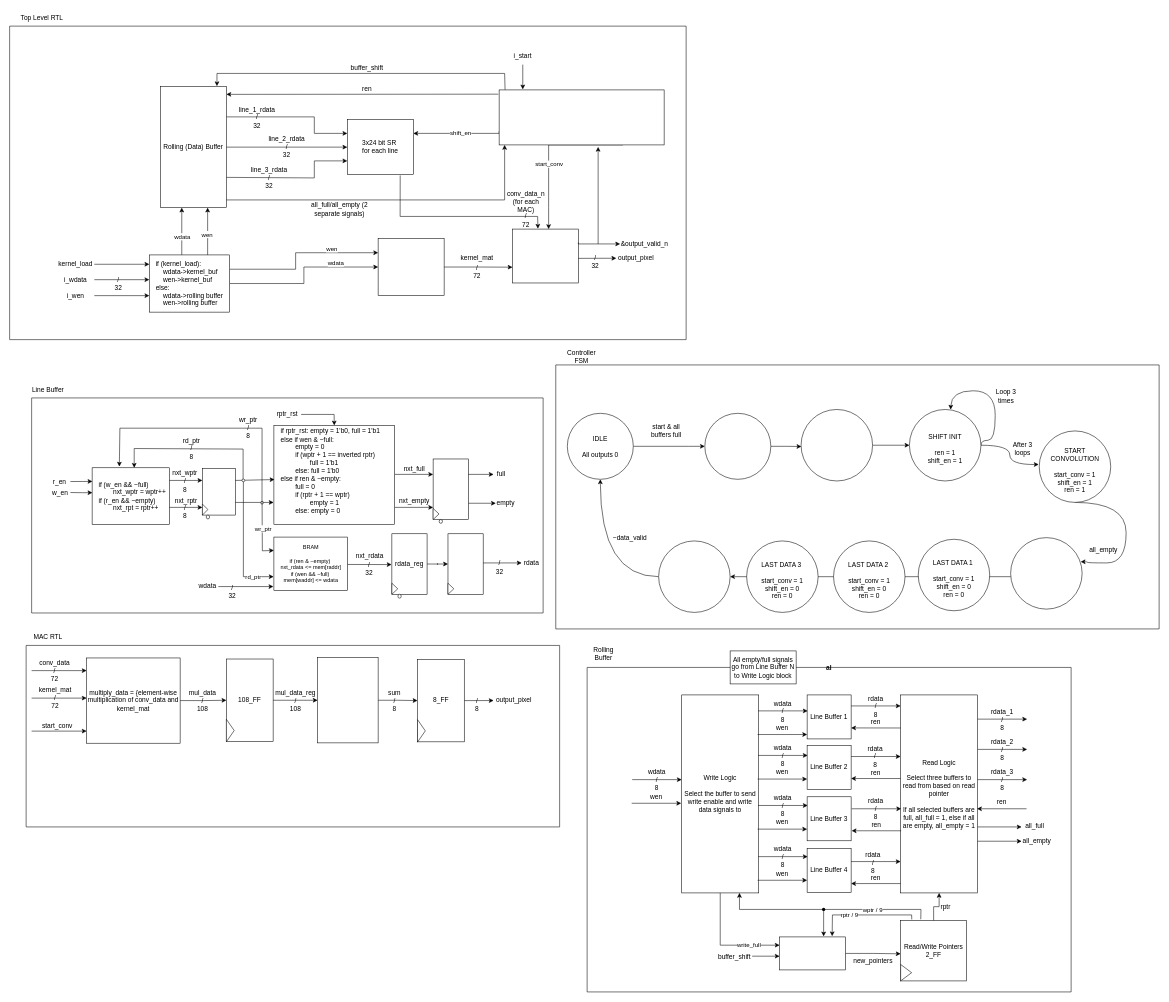
This 1169x1002 diagram has some shape labels left out. The centre of each missing label's shape, as x and y in pixels:
"2_FF full_reg empty_reg" goes at (x=450, y=488).
"4 MACs" goes at (x=545, y=256).
"BRAM o_reg" goes at (x=465, y=563).
"Controller" goes at (x=581, y=117).
"Kernel Buffer" goes at (x=411, y=267).
"LAST DATA start_conv = 1 shift_en = 1 ren = 1" goes at (x=1046, y=573).
"Pointer Increment if buffer_shift, rptr++ if write_full, wptr++" goes at (x=812, y=953).
"Pointer Register" goes at (x=218, y=491).
"READ INIT cnt_en = 1 ren = 1" goes at (x=737, y=446).
"Sum all values of mul_data_reg together into one 8 bit value" goes at (x=347, y=700).
"WAIT DATA start_conv = 0 shift_en = 0 ren = 0" goes at (x=694, y=576).
"WAIT READ ren = 1 cnt_en = 1" goes at (x=837, y=445).
